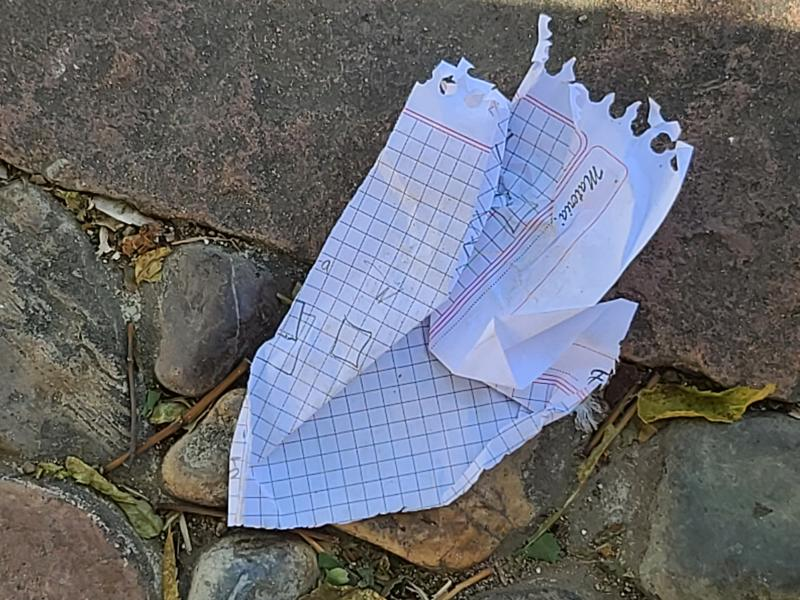papel: (228, 16, 695, 533)
